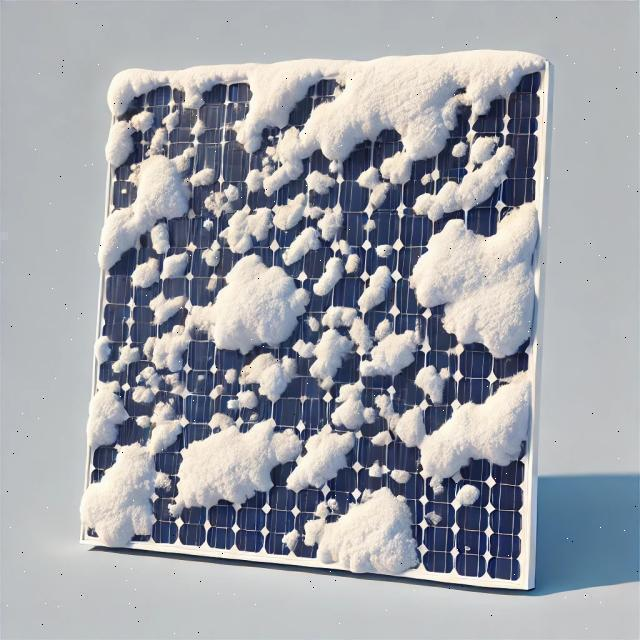Anomaly Solar Panel: (83, 43, 541, 582)
Snow: (103, 34, 549, 206), (124, 241, 320, 387), (68, 383, 210, 560), (61, 126, 220, 269), (403, 190, 539, 357), (375, 367, 543, 497), (296, 480, 419, 586), (167, 406, 263, 527), (404, 142, 526, 231), (213, 176, 316, 257), (280, 413, 360, 506), (352, 301, 433, 390), (276, 192, 347, 281), (284, 310, 363, 389), (300, 286, 383, 355), (248, 416, 306, 499), (92, 95, 154, 169), (308, 234, 366, 303), (236, 344, 299, 401), (349, 256, 400, 319), (83, 378, 128, 448), (329, 379, 377, 432), (351, 161, 394, 210), (141, 107, 180, 160), (413, 362, 452, 407), (197, 183, 242, 221), (127, 364, 166, 406), (201, 364, 244, 396), (366, 458, 413, 486), (153, 245, 191, 278), (106, 340, 139, 377), (222, 384, 258, 416), (124, 257, 158, 289), (466, 132, 496, 167), (300, 166, 336, 194), (449, 478, 483, 507), (367, 231, 400, 260), (195, 238, 226, 267), (277, 523, 303, 550), (366, 426, 391, 447), (186, 164, 212, 184), (93, 331, 109, 363), (149, 223, 168, 249), (185, 118, 206, 138), (448, 137, 466, 158)
